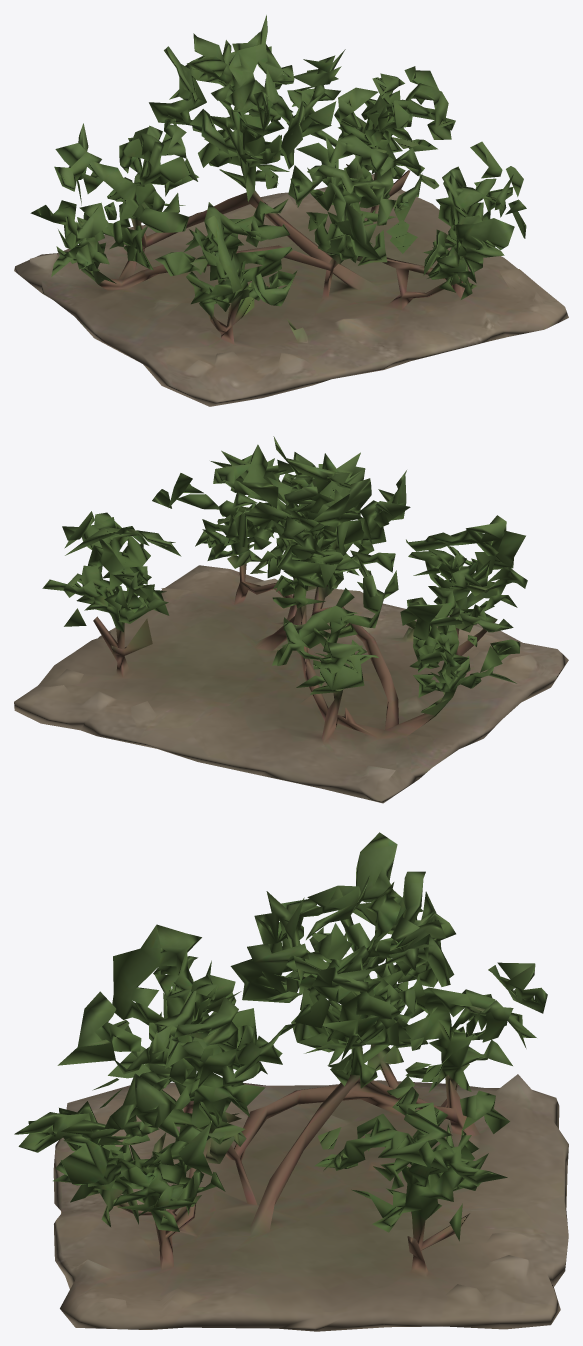
Rendered from journey_bush.glb.
3 views of the same model, one above another, from view 1: azimuth 30°, elevation 25°; view 2: azimuth 150°, elevation 25°; view 3: azimuth 270°, elevation 25° (orthographic). The views are drawn at different scales.
Parts seen in each view (by area): view 1: tripo_node_4d21913b-5238-49f6-b1b8-6b46288df909; view 2: tripo_node_4d21913b-5238-49f6-b1b8-6b46288df909; view 3: tripo_node_4d21913b-5238-49f6-b1b8-6b46288df909.
Part boxes in pixels (bbox=[...]): tripo_node_4d21913b-5238-49f6-b1b8-6b46288df909: bbox=[14, 15, 568, 406]; tripo_node_4d21913b-5238-49f6-b1b8-6b46288df909: bbox=[14, 436, 568, 803]; tripo_node_4d21913b-5238-49f6-b1b8-6b46288df909: bbox=[14, 832, 568, 1331].
Size of the model in its own units: 1 by 0.6081 by 0.8957.
Materials: 1 (1 with a texture image).
